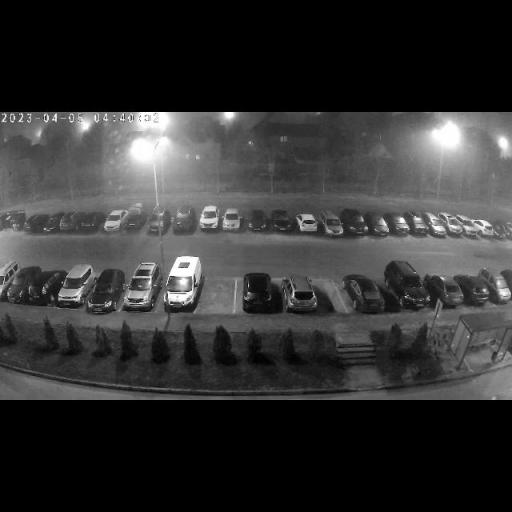busy: (161, 254, 204, 312), (54, 262, 98, 309), (388, 260, 430, 308), (122, 262, 160, 310), (278, 276, 324, 314), (342, 275, 386, 314), (239, 272, 278, 310), (91, 268, 122, 314), (18, 268, 52, 305), (429, 276, 464, 308), (454, 276, 492, 304), (414, 210, 450, 236), (430, 212, 464, 236), (340, 208, 370, 234), (192, 206, 224, 230), (487, 271, 511, 303), (168, 210, 200, 234), (100, 209, 134, 231), (244, 208, 274, 232), (365, 212, 395, 236), (468, 216, 500, 238), (318, 212, 346, 236), (404, 212, 433, 234), (22, 211, 48, 235), (294, 213, 322, 235), (0, 260, 16, 298), (82, 208, 105, 234), (62, 206, 85, 232), (386, 212, 414, 233), (144, 212, 172, 233), (270, 208, 294, 232), (220, 209, 246, 231), (44, 208, 66, 234)
free: (314, 275, 342, 312), (199, 282, 230, 310)
